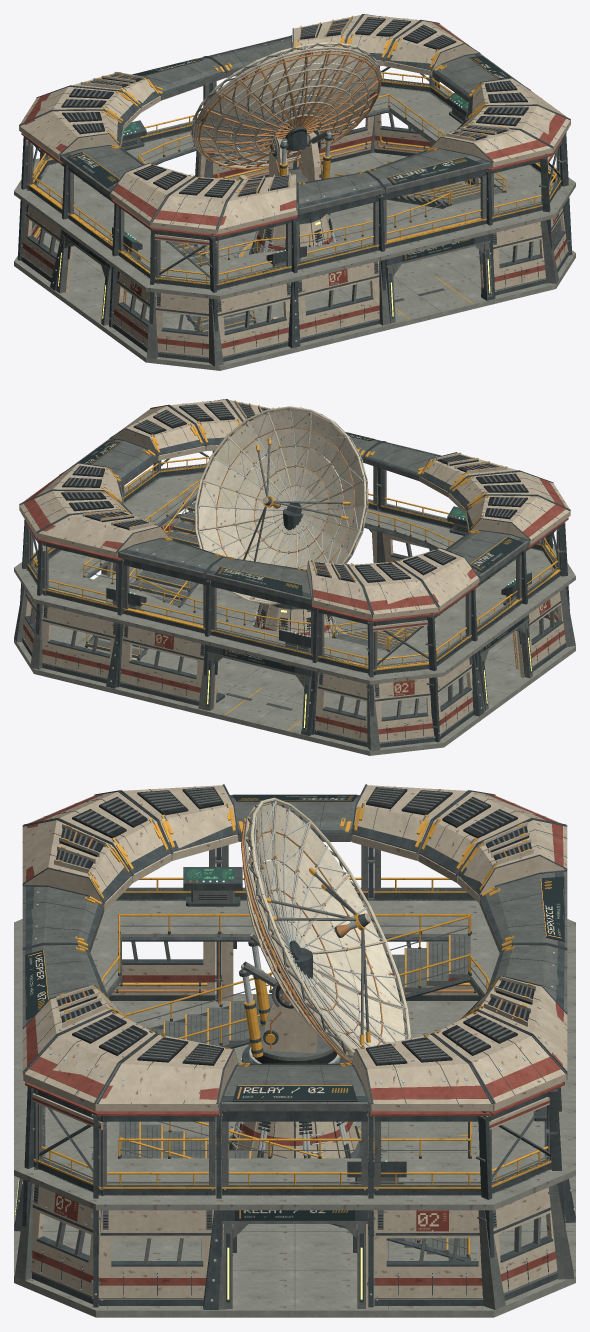
Rendered from vesper-array.glb.
3 views of the same model, one above another, from view 1: azimuth 30°, elevation 25°; view 2: azimuth 150°, elevation 25°; view 3: azimuth 270°, elevation 25° (orthographic). The views are drawn at different scales.
Visible parts, largest first — view 1: Observation gallery • continuous loop, Foundation • 64 x 48, Reflector petal bank 1, Reflector petal bank 2, Warehouse_S01_Radar_Wall_S2_Pristine, Warehouse_S01_Radar_Wall_S1_Pristine, Warehouse_S02_Radar_Roof_W1_Pristine, Warehouse_S02_Radar_Roof_S1_Pristine, Warehouse_S02_Radar_Roof_SW1_Pristine, Warehouse_S02_Radar_Roof_S4_Pristine, Warehouse_S02_Radar_Roof_S3_Pristine, Warehouse_S02_Radar_Roof_E3_Pristine (+54 smaller); view 2: Observation gallery • continuous loop, Foundation • 64 x 48, Reflector petal bank 2, Reflector petal bank 1, Reflector petal bank 3, Warehouse_S01_Radar_Wall_N2_Pristine, Warehouse_S02_Radar_Roof_N1_Pristine, Warehouse_S01_Radar_Wall_N1_Pristine, Warehouse_S02_Radar_Roof_W3_Pristine, Warehouse_S02_Radar_Roof_NW1_Pristine, Reflector petal bank 4, Warehouse_S01_Radar_Wall_NW1_Pristine (+50 smaller); view 3: Observation gallery • continuous loop, Foundation • 64 x 48, Reflector petal bank 4, Warehouse_S01_Radar_Wall_E1_Pristine, Warehouse_S02_Radar_Roof_E1_Pristine, Warehouse_S02_Radar_Roof_E3_Pristine, Warehouse_S01_Radar_Wall_E3_Pristine, Reflector petal bank 1, Warehouse_S02_Radar_Roof_NE1_Pristine, Warehouse_S02_Radar_Roof_SE1_Pristine, Warehouse_S02_Radar_Roof_E2_Pristine, Warehouse_S02_Radar_Roof_S1_Pristine (+45 smaller).
Part boxes in pixels (bbox=[...]): Observation gallery • continuous loop: bbox=[14, 84, 575, 299]; Foundation • 64 x 48: bbox=[14, 152, 575, 370]; Reflector petal bank 1: bbox=[192, 44, 308, 136]; Reflector petal bank 2: bbox=[297, 42, 382, 128]; Warehouse_S01_Radar_Wall_S2_Pristine: bbox=[298, 261, 379, 343]; Warehouse_S01_Radar_Wall_S1_Pristine: bbox=[217, 282, 291, 361]; Warehouse_S02_Radar_Roof_W1_Pristine: bbox=[19, 109, 124, 163]; Warehouse_S02_Radar_Roof_S1_Pristine: bbox=[217, 173, 297, 237]; Warehouse_S02_Radar_Roof_SW1_Pristine: bbox=[151, 175, 242, 237]; Warehouse_S02_Radar_Roof_S4_Pristine: bbox=[429, 123, 552, 170]; Warehouse_S02_Radar_Roof_S3_Pristine: bbox=[365, 148, 492, 193]; Warehouse_S02_Radar_Roof_E3_Pristine: bbox=[384, 20, 479, 75]; Observation gallery • continuous loop: bbox=[14, 470, 575, 684]; Foundation • 64 x 48: bbox=[14, 544, 575, 755]; Reflector petal bank 2: bbox=[200, 406, 313, 507]; Reflector petal bank 1: bbox=[298, 410, 368, 532]; Reflector petal bank 3: bbox=[194, 480, 287, 601]; Warehouse_S01_Radar_Wall_N2_Pristine: bbox=[119, 625, 204, 705]; Warehouse_S02_Radar_Roof_N1_Pristine: bbox=[37, 509, 169, 560]; Warehouse_S01_Radar_Wall_N1_Pristine: bbox=[42, 605, 117, 683]; Warehouse_S02_Radar_Roof_W3_Pristine: bbox=[465, 494, 570, 548]; Warehouse_S02_Radar_Roof_NW1_Pristine: bbox=[347, 560, 438, 622]; Reflector petal bank 4: bbox=[249, 513, 362, 605]; Warehouse_S01_Radar_Wall_NW1_Pristine: bbox=[373, 678, 435, 747]; Observation gallery • continuous loop: bbox=[14, 888, 575, 1210]; Foundation • 64 x 48: bbox=[14, 994, 575, 1317]; Reflector petal bank 4: bbox=[299, 872, 410, 1043]; Warehouse_S01_Radar_Wall_E1_Pristine: bbox=[99, 1210, 214, 1305]; Warehouse_S02_Radar_Roof_E1_Pristine: bbox=[96, 1033, 238, 1116]; Warehouse_S02_Radar_Roof_E3_Pristine: bbox=[351, 1033, 493, 1116]; Warehouse_S01_Radar_Wall_E3_Pristine: bbox=[374, 1210, 483, 1305]; Reflector petal bank 1: bbox=[243, 797, 351, 944]; Warehouse_S02_Radar_Roof_NE1_Pristine: bbox=[431, 1010, 566, 1115]; Warehouse_S02_Radar_Roof_SE1_Pristine: bbox=[23, 1010, 158, 1115]; Warehouse_S02_Radar_Roof_E2_Pristine: bbox=[219, 1062, 370, 1111]; Warehouse_S02_Radar_Roof_S1_Pristine: bbox=[22, 818, 132, 911].
Bounding box in the file's own units: 64 × 32.41 × 48.
20 materials, 18 textured.
